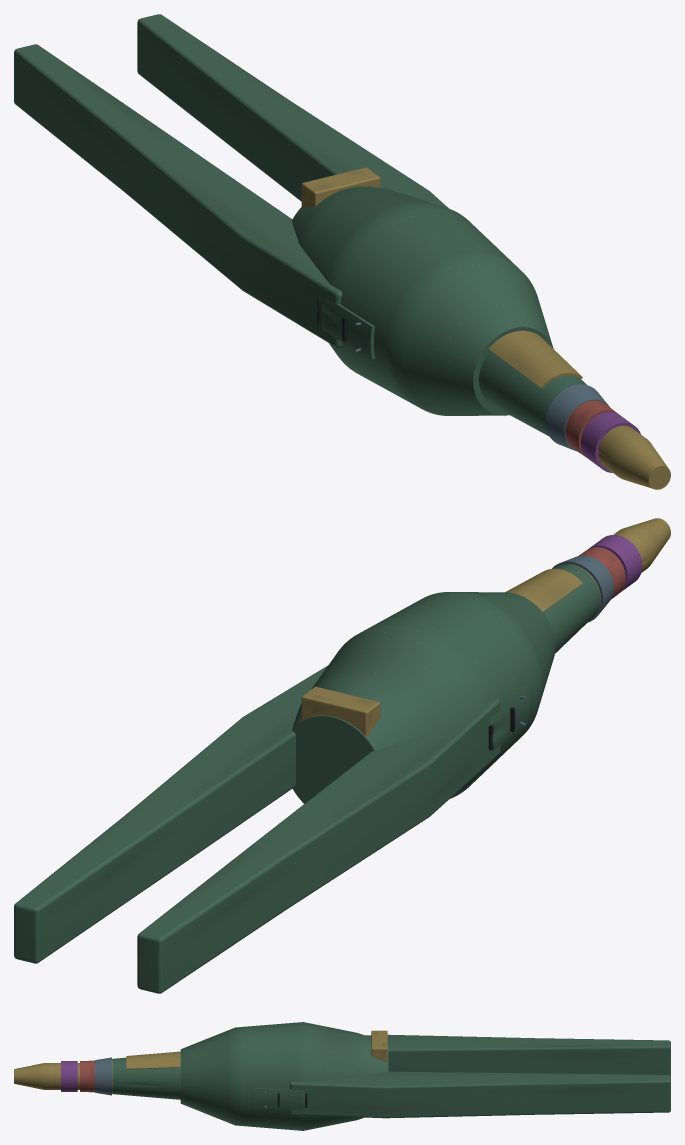
3 views of the same model, one above another, from view 1: azimuth 30°, elevation 25°; view 2: azimuth 150°, elevation 25°; view 3: azimuth 270°, elevation 25° (orthographic). The views are drawn at different scales.
Visible parts, largest first — view 1: Rigellian Multi-det green core, Rigellian Multi-det rear prong 0, Rigellian Multi-det rear prong 1, Rigellian Multi-det forward neck, Rigellian Multi-det gold forward fitting, Rigellian Multi-det gold neck insert, Rigellian Multi-det service cover 1, Rigellian Multi-det grey forward collar, Rigellian Multi-det fork base gold fitting, Rigellian Multi-det purple forward band, Rigellian Multi-det red forward band; view 2: Rigellian Multi-det rear prong 0, Rigellian Multi-det green core, Rigellian Multi-det rear prong 1, Rigellian Multi-det forward neck, Rigellian Multi-det fork base gold fitting, Rigellian Multi-det gold neck insert, Rigellian Multi-det gold forward fitting, Rigellian Multi-det service cover 1, Rigellian Multi-det purple forward band, Rigellian Multi-det grey forward collar, Rigellian Multi-det red forward band; view 3: Rigellian Multi-det rear prong 1, Rigellian Multi-det green core, Rigellian Multi-det rear prong 0, Rigellian Multi-det forward neck, Rigellian Multi-det gold forward fitting, Rigellian Multi-det service cover 0, Rigellian Multi-det gold neck insert, Rigellian Multi-det grey forward collar, Rigellian Multi-det purple forward band, Rigellian Multi-det fork base gold fitting, Rigellian Multi-det red forward band.
Part boxes in pixels (<box>): Rigellian Multi-det green core: <box>292,186,553,415</box>; Rigellian Multi-det rear prong 0: <box>14,44,342,347</box>; Rigellian Multi-det rear prong 1: <box>137,14,448,208</box>; Rigellian Multi-det forward neck: <box>479,350,586,436</box>; Rigellian Multi-det gold forward fitting: <box>598,425,670,489</box>; Rigellian Multi-det gold neck insert: <box>488,330,582,388</box>; Rigellian Multi-det service cover 1: <box>321,297,375,359</box>; Rigellian Multi-det grey forward collar: <box>545,384,609,451</box>; Rigellian Multi-det fork base gold fitting: <box>301,167,380,207</box>; Rigellian Multi-det purple forward band: <box>580,412,640,472</box>; Rigellian Multi-det red forward band: <box>565,400,617,456</box>; Rigellian Multi-det rear prong 0: <box>137,698,500,993</box>; Rigellian Multi-det green core: <box>292,592,555,803</box>; Rigellian Multi-det rear prong 1: <box>14,665,327,963</box>; Rigellian Multi-det forward neck: <box>543,564,600,653</box>; Rigellian Multi-det fork base gold fitting: <box>301,686,380,736</box>; Rigellian Multi-det gold neck insert: <box>505,568,582,611</box>; Rigellian Multi-det gold forward fitting: <box>569,518,670,604</box>; Rigellian Multi-det service cover 1: <box>490,686,529,751</box>; Rigellian Multi-det purple forward band: <box>589,535,642,592</box>; Rigellian Multi-det grey forward collar: <box>552,555,613,622</box>; Rigellian Multi-det red forward band: <box>578,547,625,599</box>; Rigellian Multi-det rear prong 1: <box>289,1071,670,1118</box>; Rigellian Multi-det green core: <box>180,1022,388,1130</box>; Rigellian Multi-det rear prong 0: <box>365,1034,670,1075</box>; Rigellian Multi-det forward neck: <box>112,1057,180,1099</box>; Rigellian Multi-det gold forward fitting: <box>14,1059,113,1093</box>; Rigellian Multi-det service cover 0: <box>254,1088,304,1109</box>; Rigellian Multi-det gold neck insert: <box>126,1051,180,1069</box>; Rigellian Multi-det grey forward collar: <box>95,1057,111,1095</box>; Rigellian Multi-det purple forward band: <box>61,1061,77,1091</box>; Rigellian Multi-det fork base gold fitting: <box>371,1030,387,1062</box>; Rigellian Multi-det red forward band: <box>80,1060,94,1092</box>.
Bounding box in the file's own units: 0.46 × 0.4 × 2.41.
Materials: 6 (3 with a texture image).
